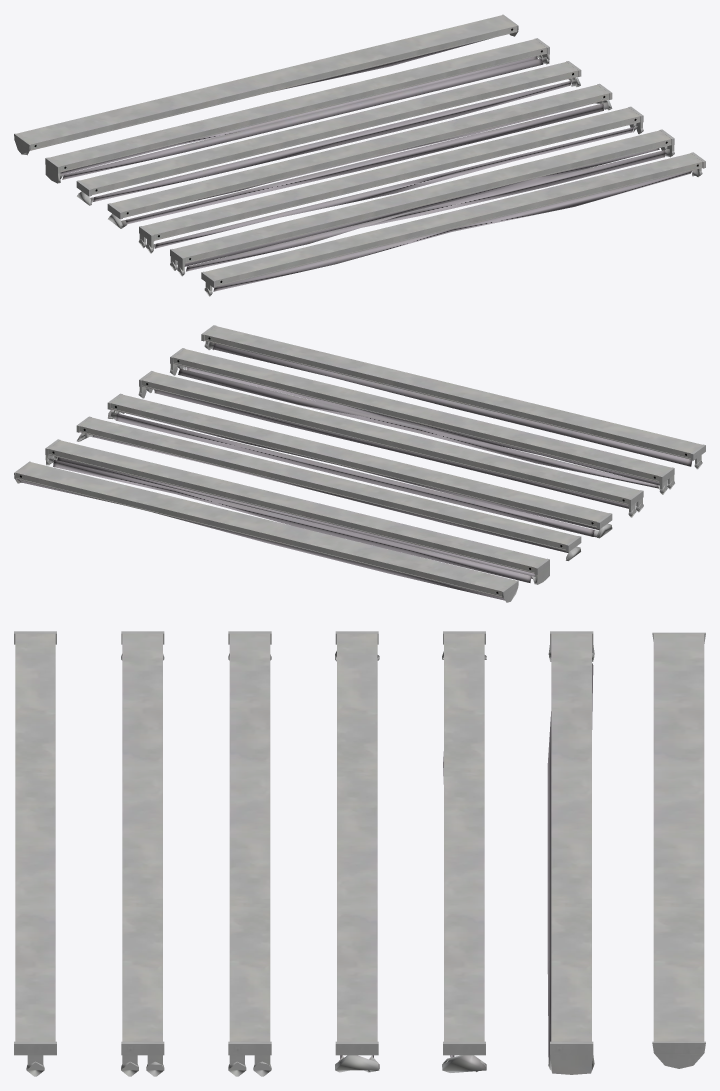
Rendered from ceiling_light.glb.
3 views of the same model, one above another, from view 1: azimuth 30°, elevation 25°; view 2: azimuth 150°, elevation 25°; view 3: azimuth 270°, elevation 25° (orthographic). The views are drawn at different scales.
Visible parts, largest first — view 1: mounted_fluorescent_lights_f, mounted_fluorescent_lights_b, mounted_fluorescent_lights_d, mounted_fluorescent_lights_e, mounted_fluorescent_lights_c, mounted_fluorescent_lights_a, mounted_fluorescent_lights_g; view 2: mounted_fluorescent_lights_f, mounted_fluorescent_lights_b, mounted_fluorescent_lights_d, mounted_fluorescent_lights_a, mounted_fluorescent_lights_g, mounted_fluorescent_lights_c, mounted_fluorescent_lights_e; view 3: mounted_fluorescent_lights_g, mounted_fluorescent_lights_f, mounted_fluorescent_lights_c, mounted_fluorescent_lights_e, mounted_fluorescent_lights_d, mounted_fluorescent_lights_b, mounted_fluorescent_lights_a.
Part boxes in pixels (<box>): mounted_fluorescent_lights_f: <box>45,38,549,183</box>; mounted_fluorescent_lights_b: <box>170,129,674,276</box>; mounted_fluorescent_lights_d: <box>107,83,612,228</box>; mounted_fluorescent_lights_e: <box>76,61,581,205</box>; mounted_fluorescent_lights_c: <box>138,106,643,253</box>; mounted_fluorescent_lights_a: <box>201,152,705,296</box>; mounted_fluorescent_lights_g: <box>14,14,518,155</box>; mounted_fluorescent_lights_f: <box>45,439,549,584</box>; mounted_fluorescent_lights_b: <box>170,348,674,494</box>; mounted_fluorescent_lights_d: <box>107,393,612,538</box>; mounted_fluorescent_lights_a: <box>201,325,705,469</box>; mounted_fluorescent_lights_g: <box>14,461,518,602</box>; mounted_fluorescent_lights_c: <box>138,371,643,517</box>; mounted_fluorescent_lights_e: <box>76,416,581,560</box>; mounted_fluorescent_lights_g: <box>652,632,705,1068</box>; mounted_fluorescent_lights_f: <box>547,631,594,1074</box>; mounted_fluorescent_lights_c: <box>228,631,271,1076</box>; mounted_fluorescent_lights_e: <box>442,631,486,1072</box>; mounted_fluorescent_lights_d: <box>335,631,379,1072</box>; mounted_fluorescent_lights_b: <box>121,631,164,1076</box>; mounted_fluorescent_lights_a: <box>14,631,56,1076</box>.
Bounding box in the file's own units: 0.9122 × 0.0351 × 0.6454.
2 materials, 2 textured.
